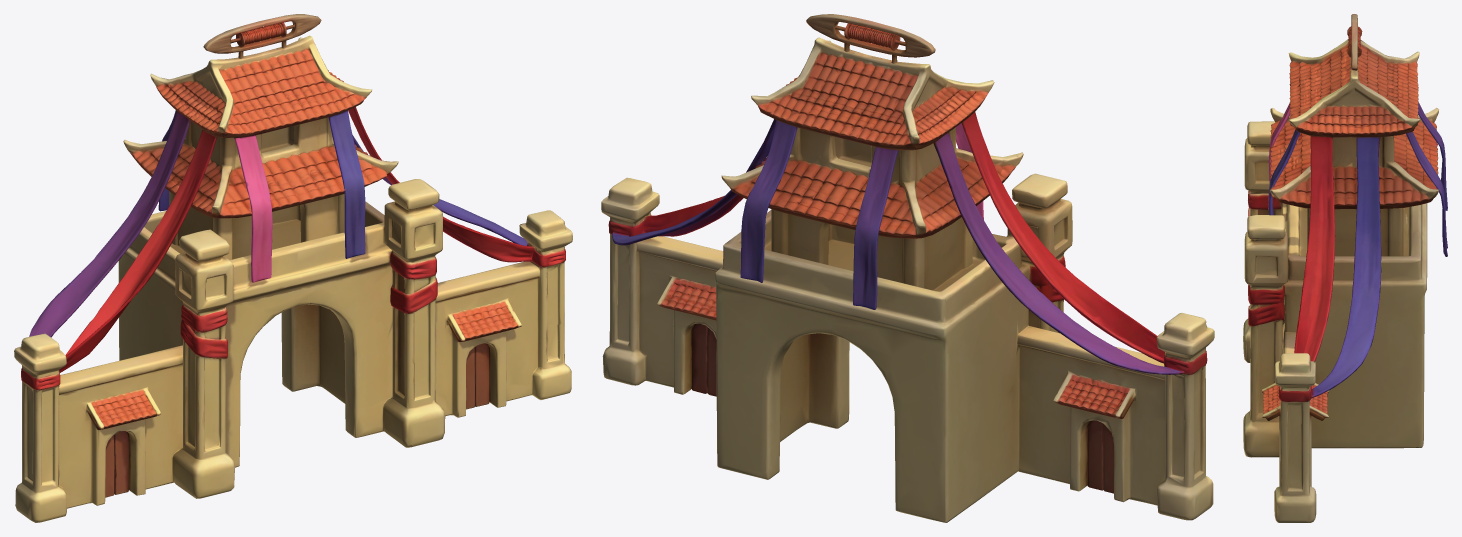
Rendered from cong-lang-det.e86ddf29.glb.
3 renders of one model, left to right at view 1: azimuth 30°, elevation 25°; view 2: azimuth 150°, elevation 25°; view 3: azimuth 270°, elevation 25°, orthographic. The views are drawn at different scales.
Visible parts, largest first — view 1: tripo_node_4edadad4-5720-47c2-8cad-e43b7fd33daa; view 2: tripo_node_4edadad4-5720-47c2-8cad-e43b7fd33daa; view 3: tripo_node_4edadad4-5720-47c2-8cad-e43b7fd33daa.
Boxes of the visible parts, left/top/right/bottom form: tripo_node_4edadad4-5720-47c2-8cad-e43b7fd33daa: left=14, top=14, right=572, bottom=522; tripo_node_4edadad4-5720-47c2-8cad-e43b7fd33daa: left=601, top=14, right=1214, bottom=522; tripo_node_4edadad4-5720-47c2-8cad-e43b7fd33daa: left=1243, top=14, right=1447, bottom=522.
Bounding box in the file's own units: 0.9795 × 0.7029 × 0.3499.
1 material, 1 textured.
